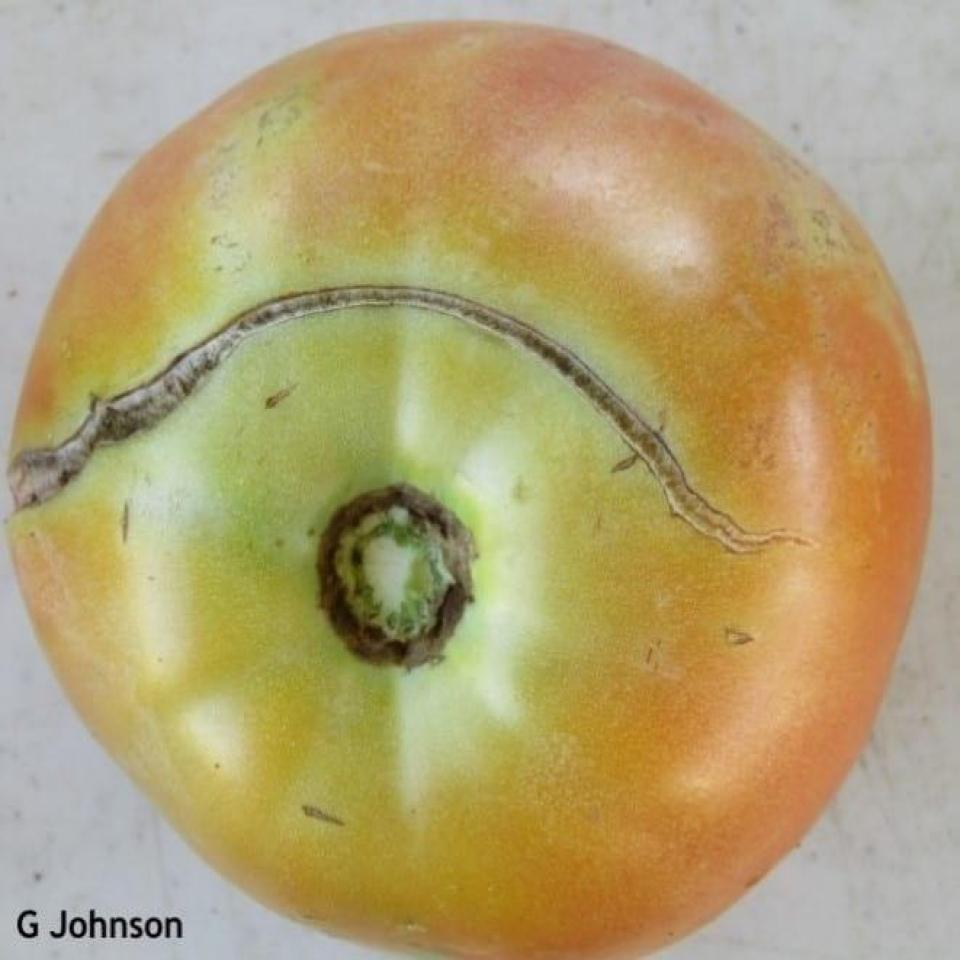Cracking: (0, 275, 799, 580)
